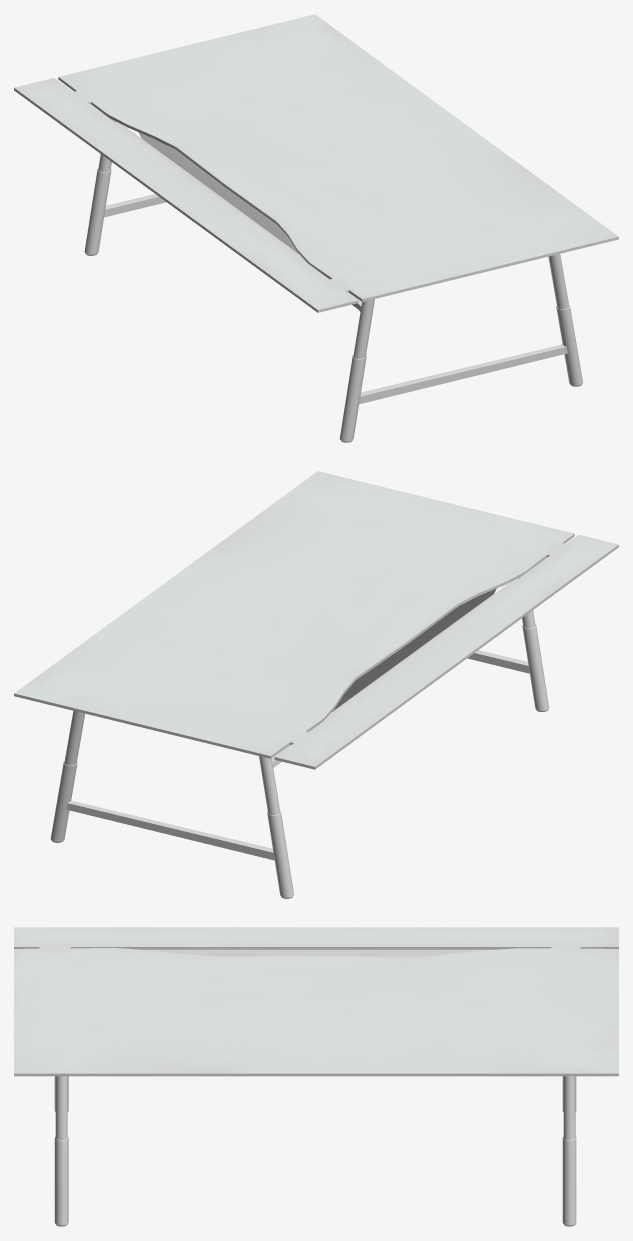
The model's file is bureau.fbx.
The picture shows the model from 3 angles, top to bottom: view 1: azimuth 30°, elevation 25°; view 2: azimuth 150°, elevation 25°; view 3: azimuth 270°, elevation 25°; orthographic projection.
Visible parts, largest first — view 1: pCube4; view 2: pCube4; view 3: pCube4.
Boxes of the visible parts, bbox=[...] form: pCube4: bbox=[14, 14, 618, 442]; pCube4: bbox=[14, 471, 618, 898]; pCube4: bbox=[14, 927, 618, 1226].
Bounding box in the file's own units: 57.19 × 29.13 × 100.
